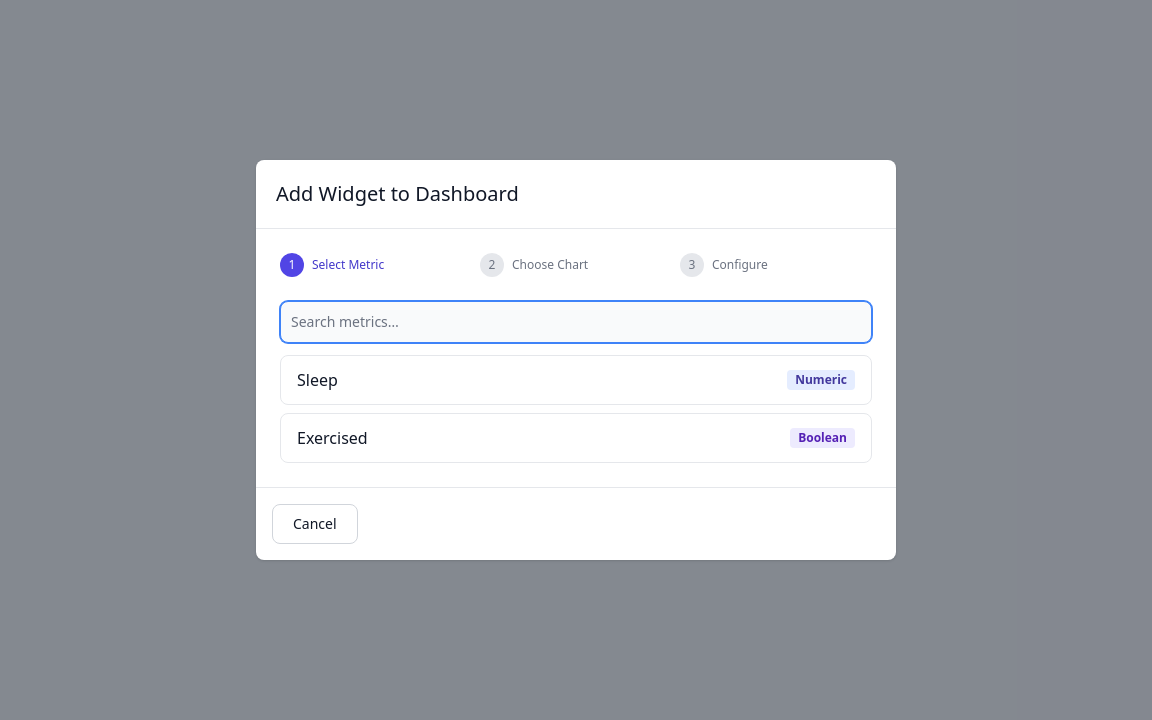
it: WidgetConfigurator › offers only stat, streak and heatmap for a boolean metric, and back returns to the metric list
This screenshot has width=1152, height=720.
Step 1. Click the button "Exercised Boolean" → (332, 438), box [280,413,872,463]
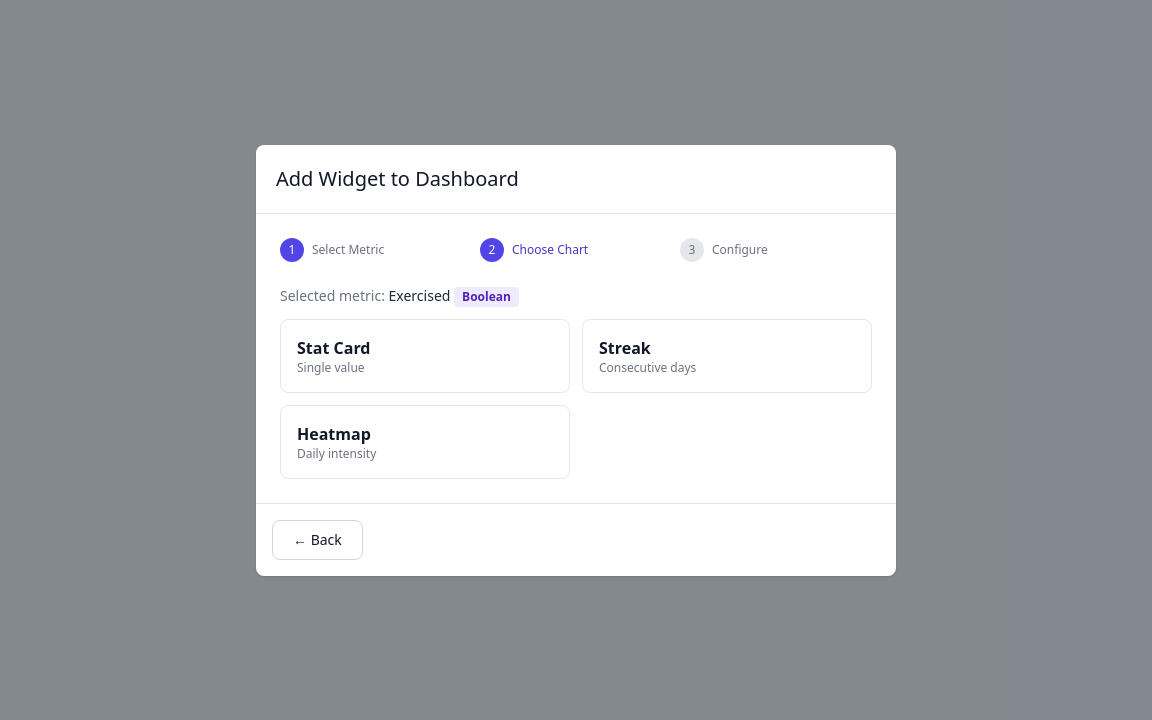
Now the button "Stat Card Single value" is shown, box [280,318,570,392]
Now the button "Streak Consecutive days" is shown, box [582,318,872,392]
Now the button "Heatmap Daily intensity" is shown, box [280,404,570,478]
Step 2. Click the button "← Back" → (317, 540), box [272,520,363,560]
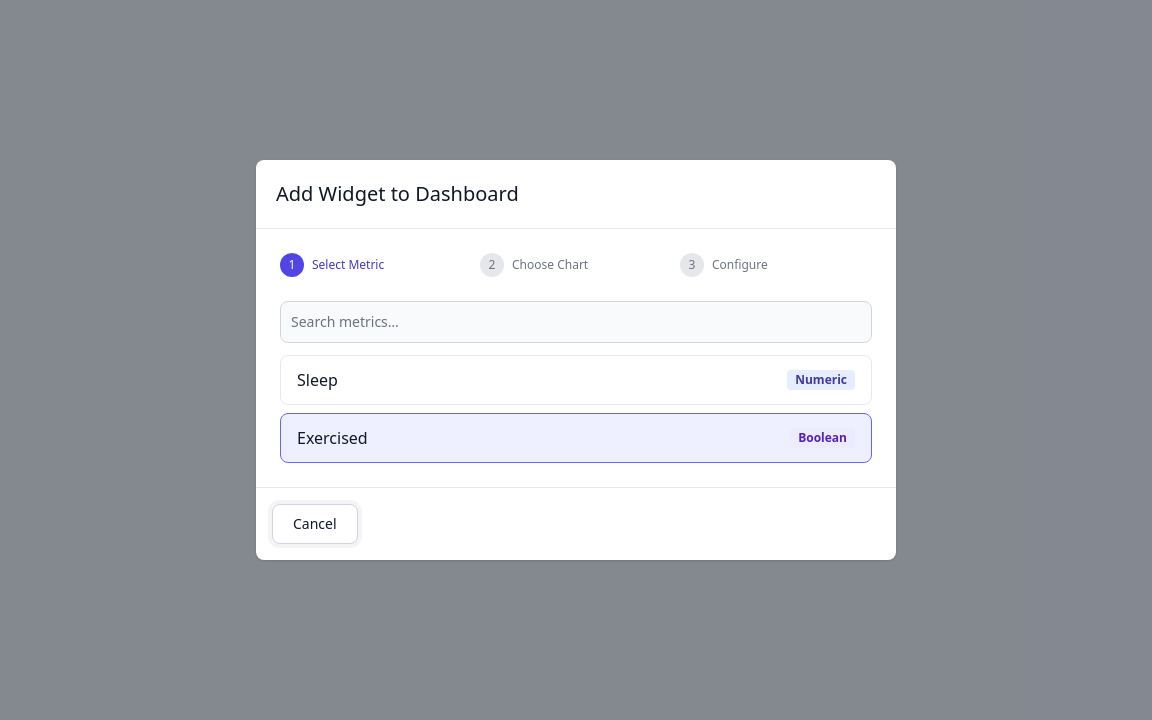
Now the button "Sleep Numeric" is shown, box [280,355,872,405]
